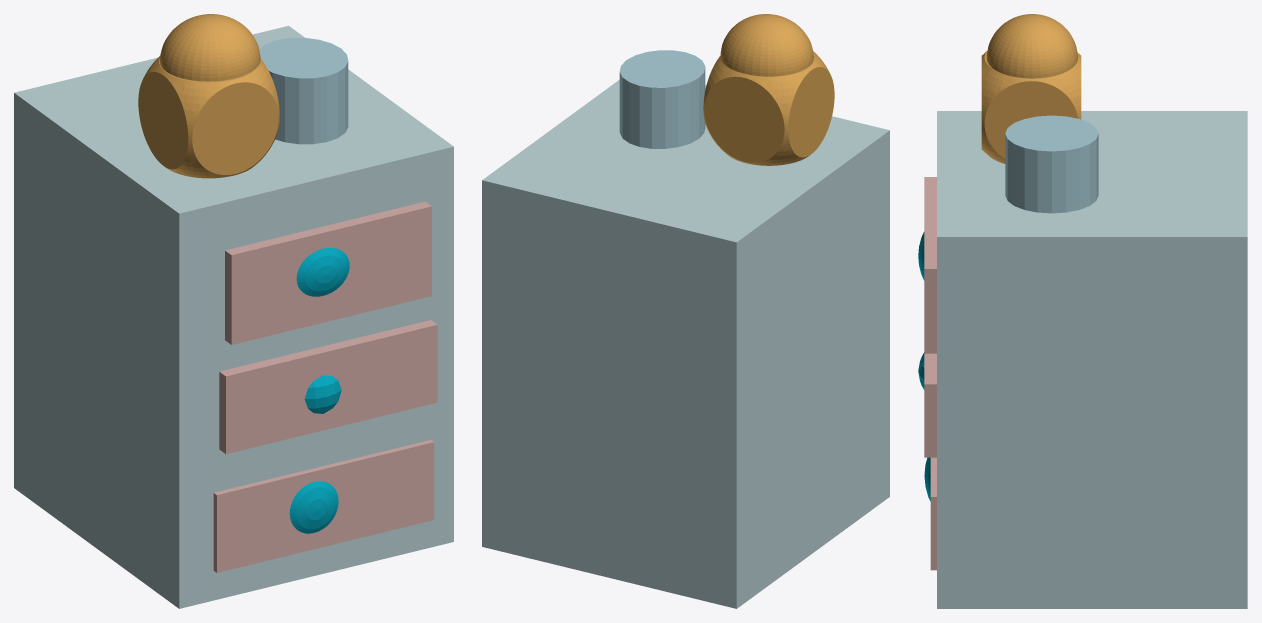
The model's file is Fantabulous Trug.glb.
3 renders of one model, left to right at view 1: azimuth 30°, elevation 25°; view 2: azimuth 150°, elevation 25°; view 3: azimuth 270°, elevation 25°, orthographic. The views are drawn at different scales.
Parts seen in each view (by area): view 1: Mesh_Mesh_head_geo.001_lambert2SG.001; view 2: Mesh_Mesh_head_geo.001_lambert2SG.001; view 3: Mesh_Mesh_head_geo.001_lambert2SG.001.
Part boxes in pixels (x1,y1,x2,y2): Mesh_Mesh_head_geo.001_lambert2SG.001: (14,14,453,608); Mesh_Mesh_head_geo.001_lambert2SG.001: (482,14,889,608); Mesh_Mesh_head_geo.001_lambert2SG.001: (918,14,1247,608).
Bounding box in the file's own units: 48 × 89 × 53.
